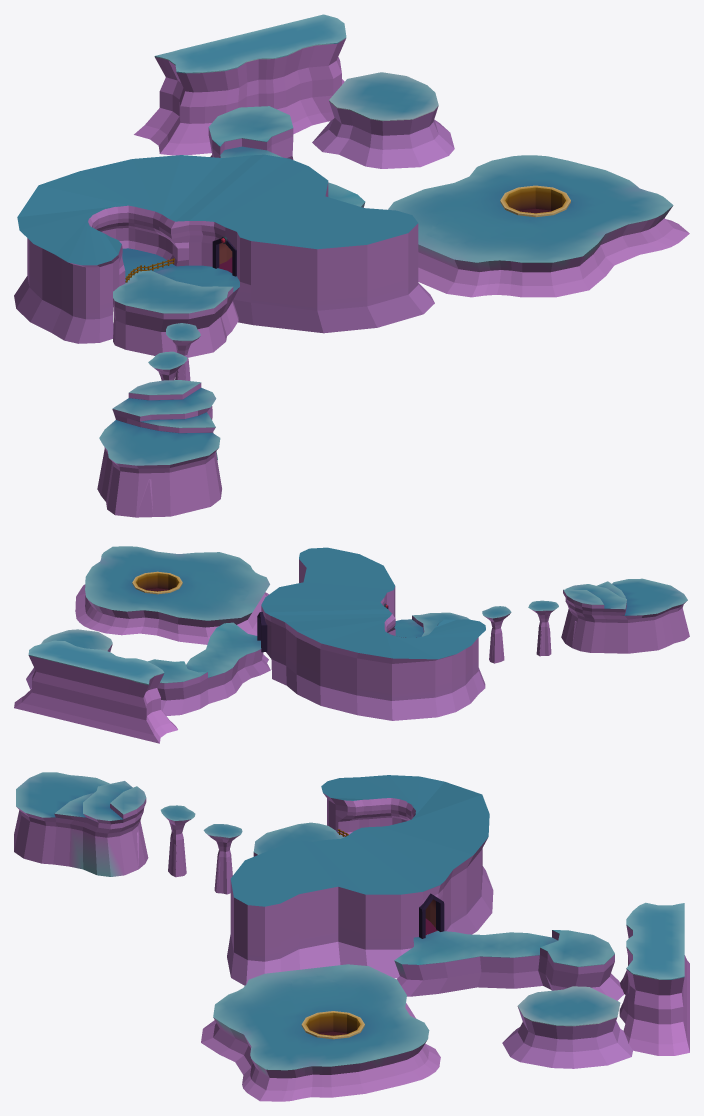
Rendered from vertex_colour_v3_shaded.glb.
3 renders of one model, top to bottom at view 1: azimuth 30°, elevation 25°; view 2: azimuth 150°, elevation 25°; view 3: azimuth 270°, elevation 25°, orthographic. The views are drawn at different scales.
Parts seen in each view (by area): view 1: Walls, Island2, Grid, Island1, Charging Pen, Island4, Island3, Pit, Platform2; view 2: Walls, Island2, Grid, Island1, Island3, Charging Pen, Island4, Pit, Platform2, Platform1, Exit; view 3: Walls, Island2, Island3, Island1, Grid, Island4, Charging Pen, Pit, Platform2, Platform1, Exit.
Part boxes in pixels (x1=…): Walls: x1=14, y1=154, x2=434, y2=343; Island2: x1=388, y1=155, x2=689, y2=297; Grid: x1=134, y1=14, x2=346, y2=155; Island1: x1=97, y1=380, x2=221, y2=517; Charging Pen: x1=113, y1=248, x2=239, y2=357; Island4: x1=312, y1=72, x2=454, y2=168; Island3: x1=208, y1=106, x2=365, y2=207; Pit: x1=500, y1=185, x2=570, y2=217; Platform2: x1=166, y1=323, x2=200, y2=380; Walls: x1=261, y1=547, x2=485, y2=720; Island2: x1=75, y1=546, x2=269, y2=644; Grid: x1=14, y1=640, x2=177, y2=743; Island1: x1=561, y1=578, x2=689, y2=653; Island3: x1=147, y1=622, x2=270, y2=715; Charging Pen: x1=394, y1=612, x2=469, y2=637; Island4: x1=26, y1=629, x2=112, y2=689; Pit: x1=132, y1=571, x2=182, y2=594; Platform2: x1=482, y1=606, x2=511, y2=663; Platform1: x1=528, y1=600, x2=558, y2=656; Exit: x1=257, y1=612, x2=267, y2=652; Walls: x1=227, y1=775, x2=493, y2=985; Island2: x1=201, y1=964, x2=440, y2=1101; Island3: x1=394, y1=930, x2=624, y2=1000; Island1: x1=14, y1=772, x2=148, y2=876; Grid: x1=619, y1=902, x2=689, y2=1055; Island4: x1=502, y1=986, x2=632, y2=1068; Charging Pen: x1=253, y1=822, x2=344, y2=856; Pit: x1=301, y1=1011, x2=364, y2=1039; Platform2: x1=203, y1=824, x2=242, y2=894; Platform1: x1=160, y1=805, x2=195, y2=877; Exit: x1=419, y1=893, x2=444, y2=938.
Size of what is drawn, in the model's own units: 684 by 101 by 641.
